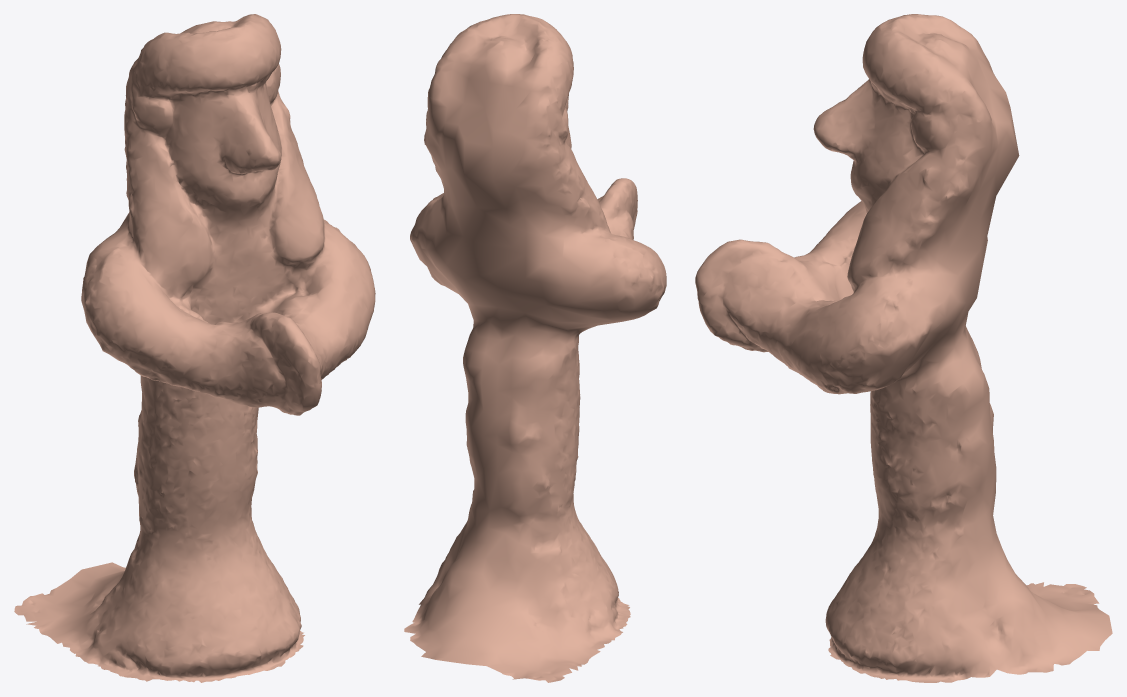
The model's file is wc-mahg-terracotta-tambourine-player.glb.
3 views of the same model, side by side, from view 1: azimuth 30°, elevation 25°; view 2: azimuth 150°, elevation 25°; view 3: azimuth 270°, elevation 25° (orthographic). The views are drawn at different scales.
Visible parts, largest first — view 1: wc-mahg-terracotta-tambourine-player; view 2: wc-mahg-terracotta-tambourine-player; view 3: wc-mahg-terracotta-tambourine-player.
Part boxes in pixels (box(x1,y1,x2,y2)): wc-mahg-terracotta-tambourine-player: box(14, 14, 375, 682); wc-mahg-terracotta-tambourine-player: box(404, 14, 666, 682); wc-mahg-terracotta-tambourine-player: box(695, 14, 1112, 682).
Size of the model in its own units: 0.0897 by 0.2 by 0.1215.
